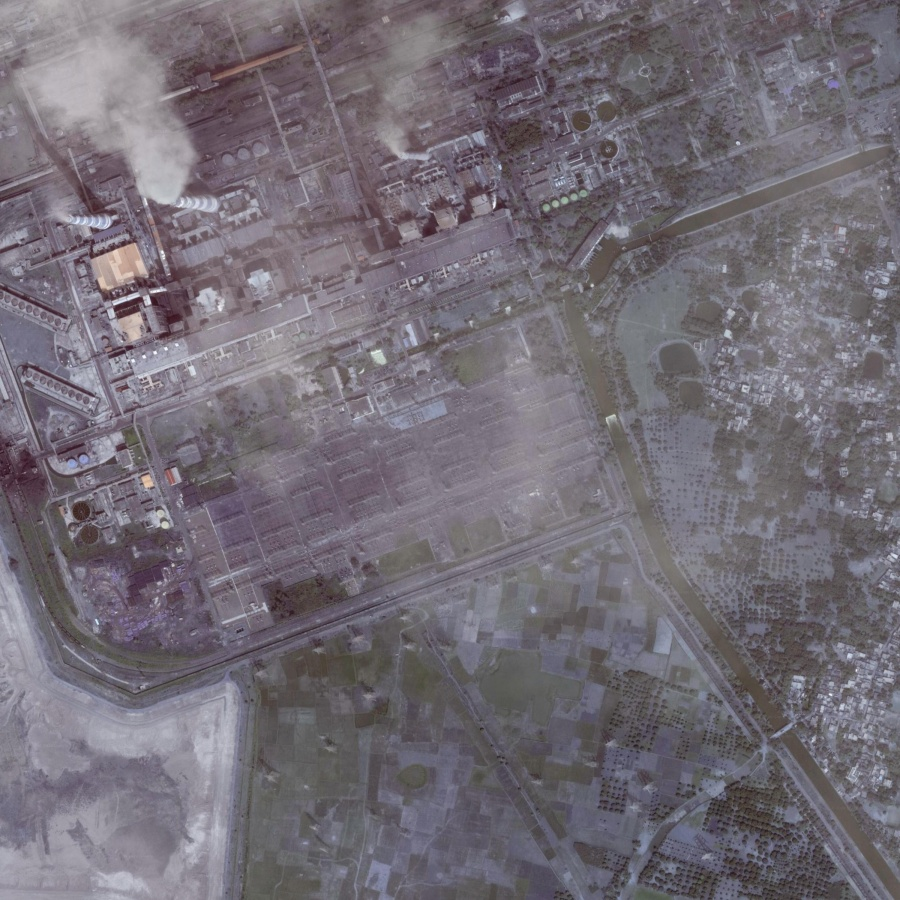PowerPlant: (15, 75, 499, 386)
